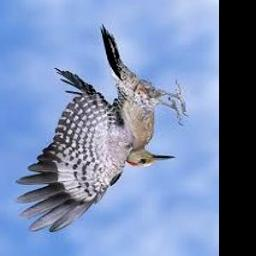Woodpecker: (15, 25, 188, 232)
